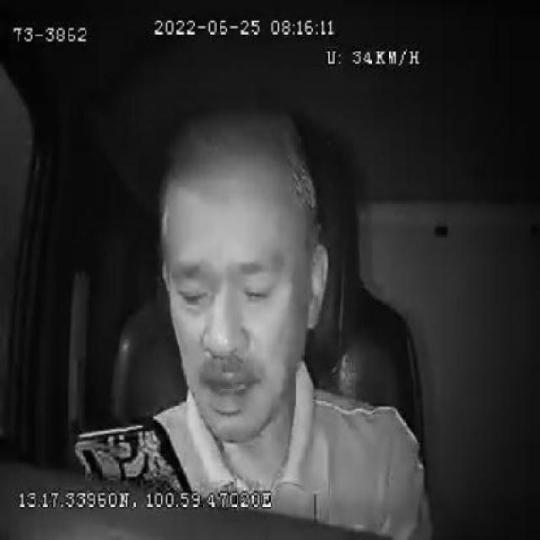phone: (71, 416, 192, 493)
